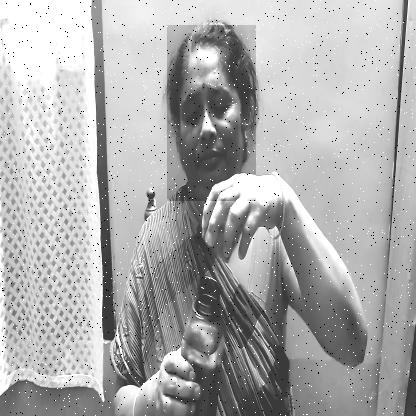Normal: (167, 25, 256, 202)
